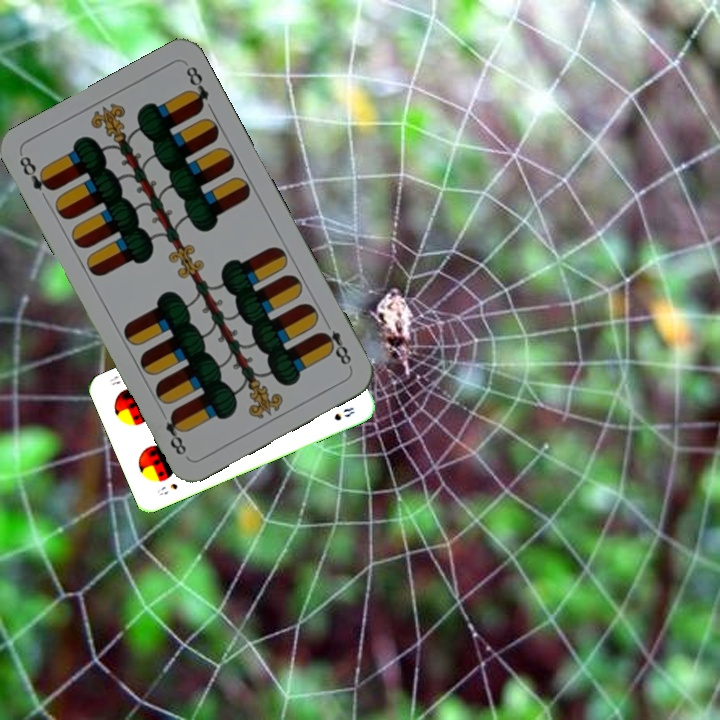E8: (316, 315, 354, 368), (15, 151, 57, 194)
S8: (153, 479, 180, 497)
